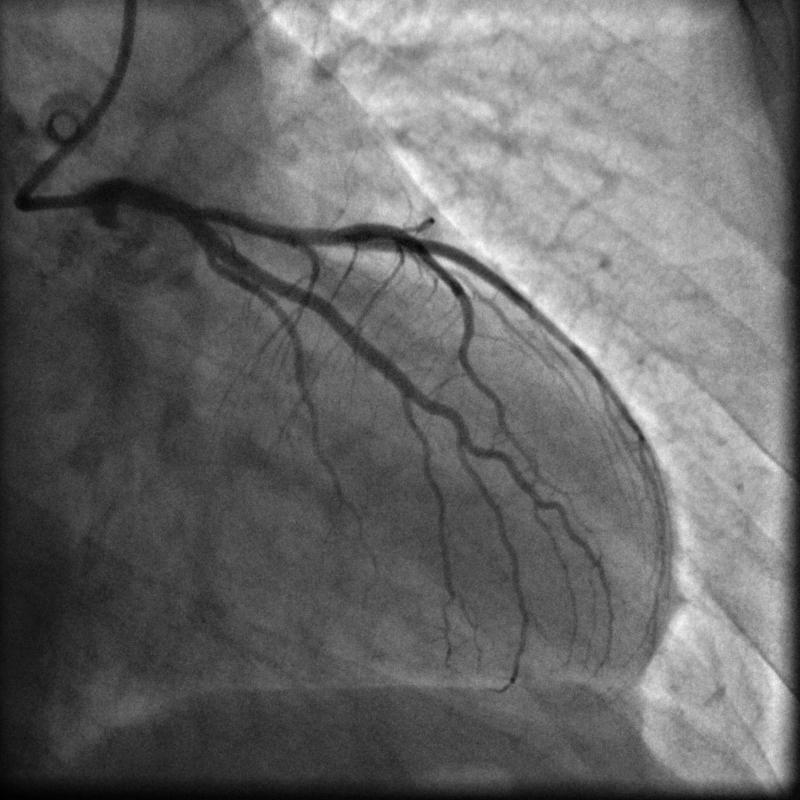Stenosis: (192, 198, 228, 222)
